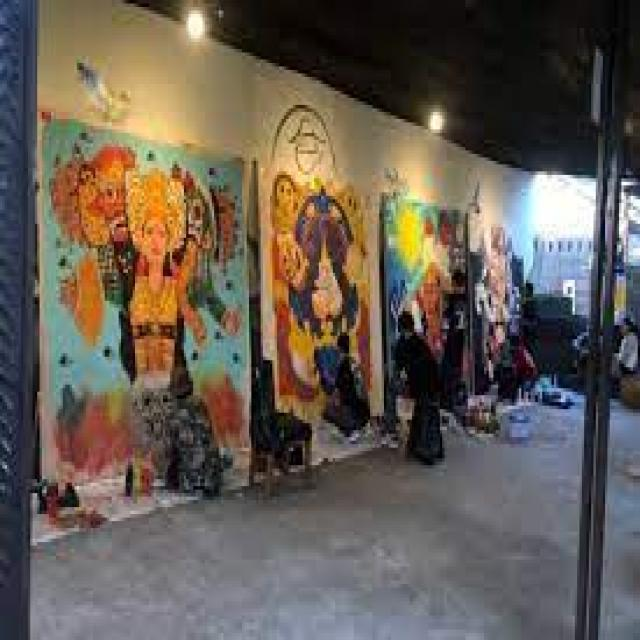-: (43, 115, 247, 478), (268, 174, 378, 410), (384, 191, 454, 376), (472, 181, 523, 360), (274, 101, 336, 175)
